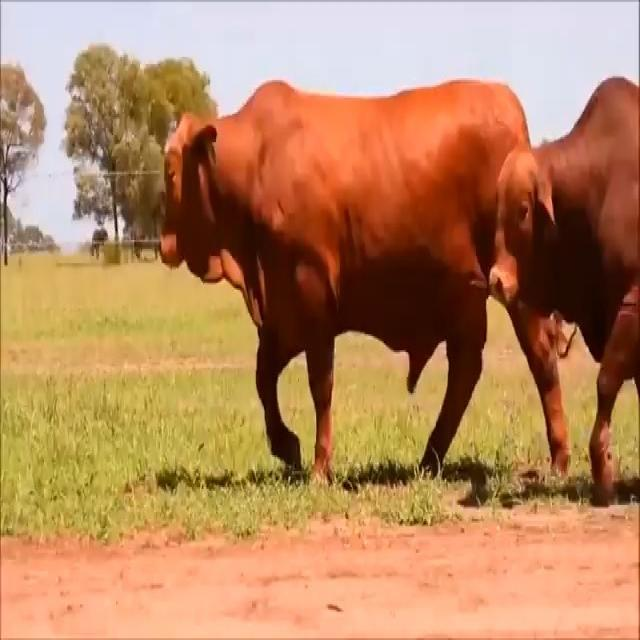COW: (160, 78, 640, 497), (316, 156, 331, 163)
